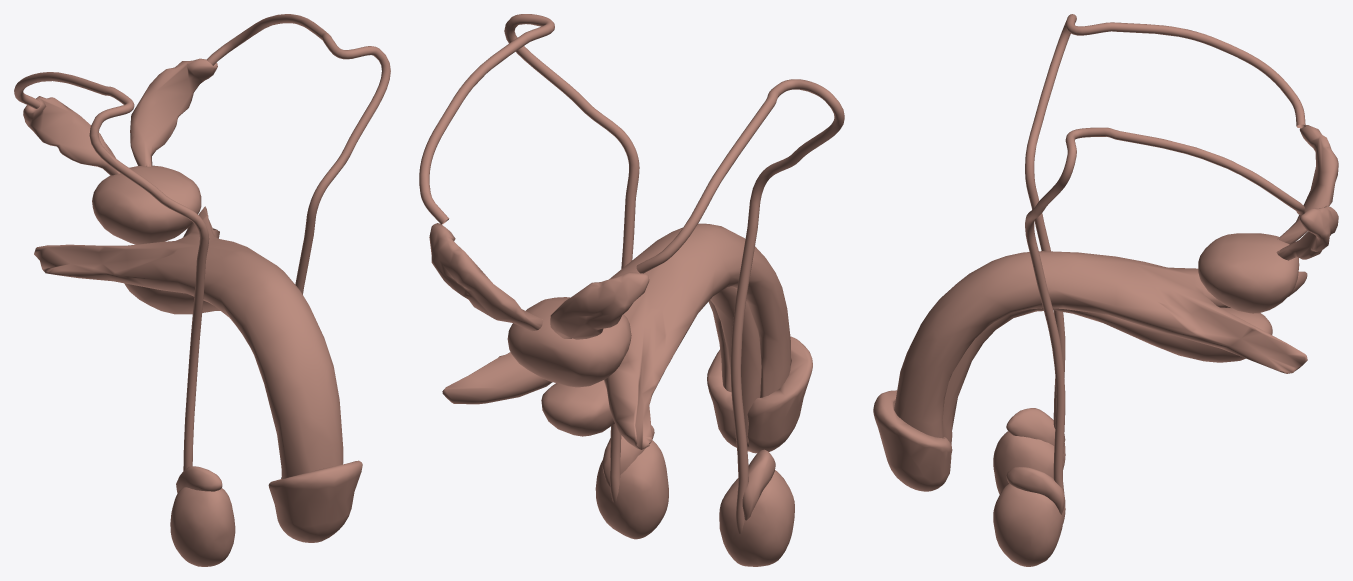
Rendered from reproductive.glb.
The picture shows the model from 3 angles, left to right: view 1: azimuth 30°, elevation 25°; view 2: azimuth 150°, elevation 25°; view 3: azimuth 270°, elevation 25°; orthographic projection. The views are drawn at different scales.
Visible parts, largest first — view 1: za-f26cd1157e551a6a, za-0fa320e13ac298d5, za-7f6af3c2a00c2ff2, za-29295a3c5ede2af3, za-dcfc5b0847df1672, za-1addc3828282aea8, za-fa6a4ada5e35b202, za-35d0f49c473b179f, za-def8ca9aeb56e5b2, za-d4986d55fb604278; view 2: za-f26cd1157e551a6a, za-7f6af3c2a00c2ff2, za-1addc3828282aea8, za-0fa320e13ac298d5, za-def8ca9aeb56e5b2, za-29295a3c5ede2af3, za-fa6a4ada5e35b202, za-552bf783cd4abfd9, za-dcfc5b0847df1672, za-35d0f49c473b179f, za-d4986d55fb604278, za-20bc2944df8e0cc2; view 3: za-f26cd1157e551a6a, za-0fa320e13ac298d5, za-1addc3828282aea8, za-7f6af3c2a00c2ff2, za-def8ca9aeb56e5b2, za-29295a3c5ede2af3, za-552bf783cd4abfd9, za-35d0f49c473b179f, za-fa6a4ada5e35b202, za-dcfc5b0847df1672, za-20bc2944df8e0cc2, za-d4986d55fb604278.
Boxes of the visible parts, x1=… form: za-f26cd1157e551a6a: x1=34, y1=206, x2=343, y2=479; za-0fa320e13ac298d5: x1=92, y1=165, x2=201, y2=244; za-7f6af3c2a00c2ff2: x1=14, y1=72, x2=209, y2=470; za-29295a3c5ede2af3: x1=268, y1=460, x2=362, y2=542; za-dcfc5b0847df1672: x1=130, y1=58, x2=217, y2=166; za-1addc3828282aea8: x1=206, y1=14, x2=390, y2=294; za-fa6a4ada5e35b202: x1=170, y1=487, x2=235, y2=566; za-35d0f49c473b179f: x1=23, y1=96, x2=120, y2=175; za-def8ca9aeb56e5b2: x1=124, y1=283, x2=220, y2=314; za-d4986d55fb604278: x1=176, y1=466, x2=222, y2=493; za-f26cd1157e551a6a: x1=442, y1=223, x2=790, y2=449; za-7f6af3c2a00c2ff2: x1=636, y1=79, x2=844, y2=533; za-1addc3828282aea8: x1=419, y1=14, x2=639, y2=503; za-0fa320e13ac298d5: x1=507, y1=297, x2=631, y2=387; za-def8ca9aeb56e5b2: x1=541, y1=287, x2=761, y2=447; za-29295a3c5ede2af3: x1=707, y1=336, x2=812, y2=453; za-fa6a4ada5e35b202: x1=719, y1=470, x2=794, y2=566; za-552bf783cd4abfd9: x1=595, y1=440, x2=668, y2=539; za-dcfc5b0847df1672: x1=429, y1=223, x2=543, y2=331; za-35d0f49c473b179f: x1=550, y1=272, x2=649, y2=339; za-d4986d55fb604278: x1=742, y1=449, x2=775, y2=520; za-20bc2944df8e0cc2: x1=602, y1=425, x2=654, y2=486; za-f26cd1157e551a6a: x1=894, y1=251, x2=1307, y2=438; za-0fa320e13ac298d5: x1=1198, y1=233, x2=1299, y2=313; za-1addc3828282aea8: x1=1025, y1=127, x2=1305, y2=524; za-7f6af3c2a00c2ff2: x1=1025, y1=14, x2=1305, y2=469; za-def8ca9aeb56e5b2: x1=942, y1=307, x2=1272, y2=474; za-29295a3c5ede2af3: x1=873, y1=390, x2=952, y2=491; za-552bf783cd4abfd9: x1=993, y1=483, x2=1062, y2=566; za-35d0f49c473b179f: x1=1279, y1=125, x2=1338, y2=244; za-fa6a4ada5e35b202: x1=993, y1=431, x2=1063, y2=494; za-dcfc5b0847df1672: x1=1277, y1=206, x2=1338, y2=260; za-20bc2944df8e0cc2: x1=1006, y1=467, x2=1065, y2=514; za-d4986d55fb604278: x1=1006, y1=408, x2=1065, y2=445.
Size of the model in its own units: 0.1123 by 0.1654 by 0.151.
